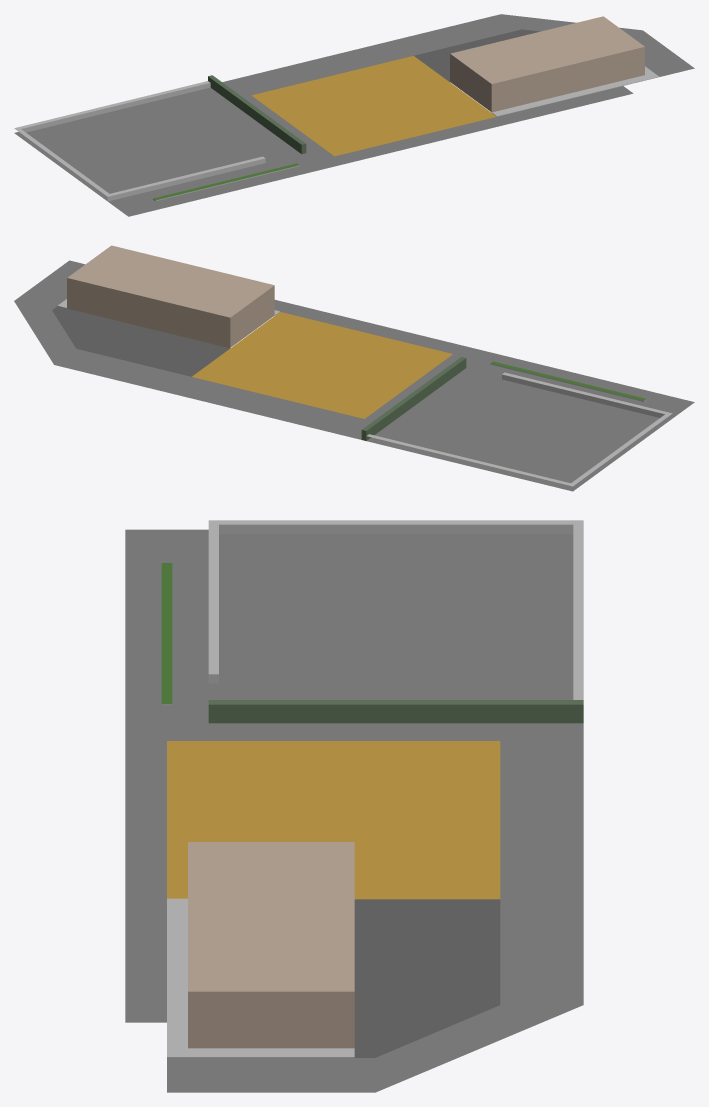
Rendered from chunk_bus.glb.
3 renders of one model, top to bottom at view 1: azimuth 30°, elevation 25°; view 2: azimuth 150°, elevation 25°; view 3: azimuth 270°, elevation 25°, orthographic. The views are drawn at different scales.
Parts seen in each view (by area): view 1: Plane, Building, Fences; view 2: Plane, Building, Fences; view 3: Plane, Building, Fences.
Boxes of the visible parts, x1=… form: Plane: x1=14, y1=14, x2=694, y2=216; Building: x1=450, y1=16, x2=658, y2=116; Fences: x1=14, y1=75, x2=306, y2=201; Plane: x1=14, y1=260, x2=694, y2=491; Building: x1=57, y1=245, x2=280, y2=348; Fences: x1=361, y1=357, x2=672, y2=486; Plane: x1=125, y1=529, x2=583, y2=1092; Building: x1=167, y1=842, x2=354, y2=1057; Fences: x1=161, y1=520, x2=583, y2=723.
Size of what is drawn, in the model's own units: 128 by 6.1 by 44.
